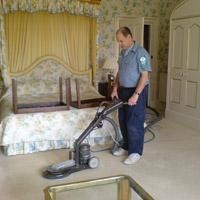person without safety: (110, 23, 151, 166)
